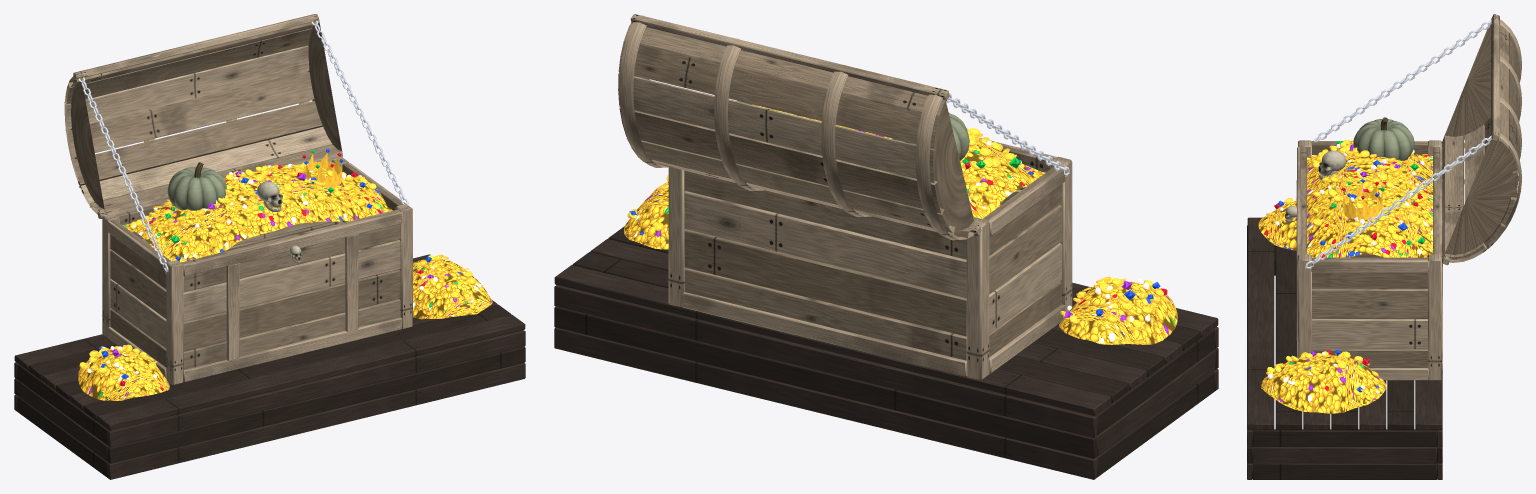
File: treasure-chest.glb
3 views of the same model, side by side, from view 1: azimuth 30°, elevation 25°; view 2: azimuth 150°, elevation 25°; view 3: azimuth 270°, elevation 25° (orthographic). The views are drawn at different scales.
Parts seen in each view (by area): view 1: chest, lid, chains; view 2: chest, lid, chains; view 3: chest, lid, chains.
Part boxes in pixels (<box>): chest: <box>14,149,525,479</box>; lid: <box>64,14,342,218</box>; chains: <box>78,20,408,272</box>; chest: <box>554,100,1218,479</box>; lid: <box>618,14,981,240</box>; chains: <box>946,93,1069,176</box>; chest: <box>1247,117,1442,479</box>; lid: <box>1442,14,1521,265</box>; chains: <box>1305,20,1491,268</box>.
Size of the model in its own units: 3.5 by 2.39 by 1.97.
Materials: 4 (4 with a texture image).
